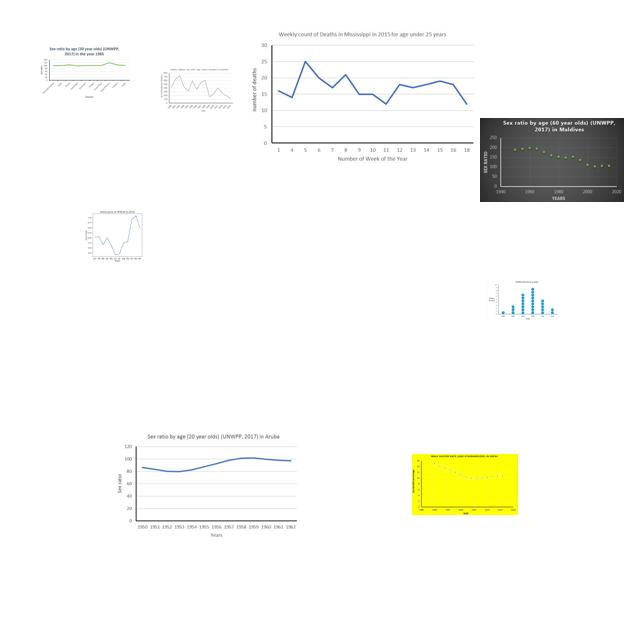Graph: (246, 27, 479, 168), (112, 430, 301, 541), (480, 118, 624, 202), (412, 454, 518, 515), (38, 46, 131, 101), (79, 207, 154, 263), (159, 67, 234, 113), (486, 279, 559, 322)
